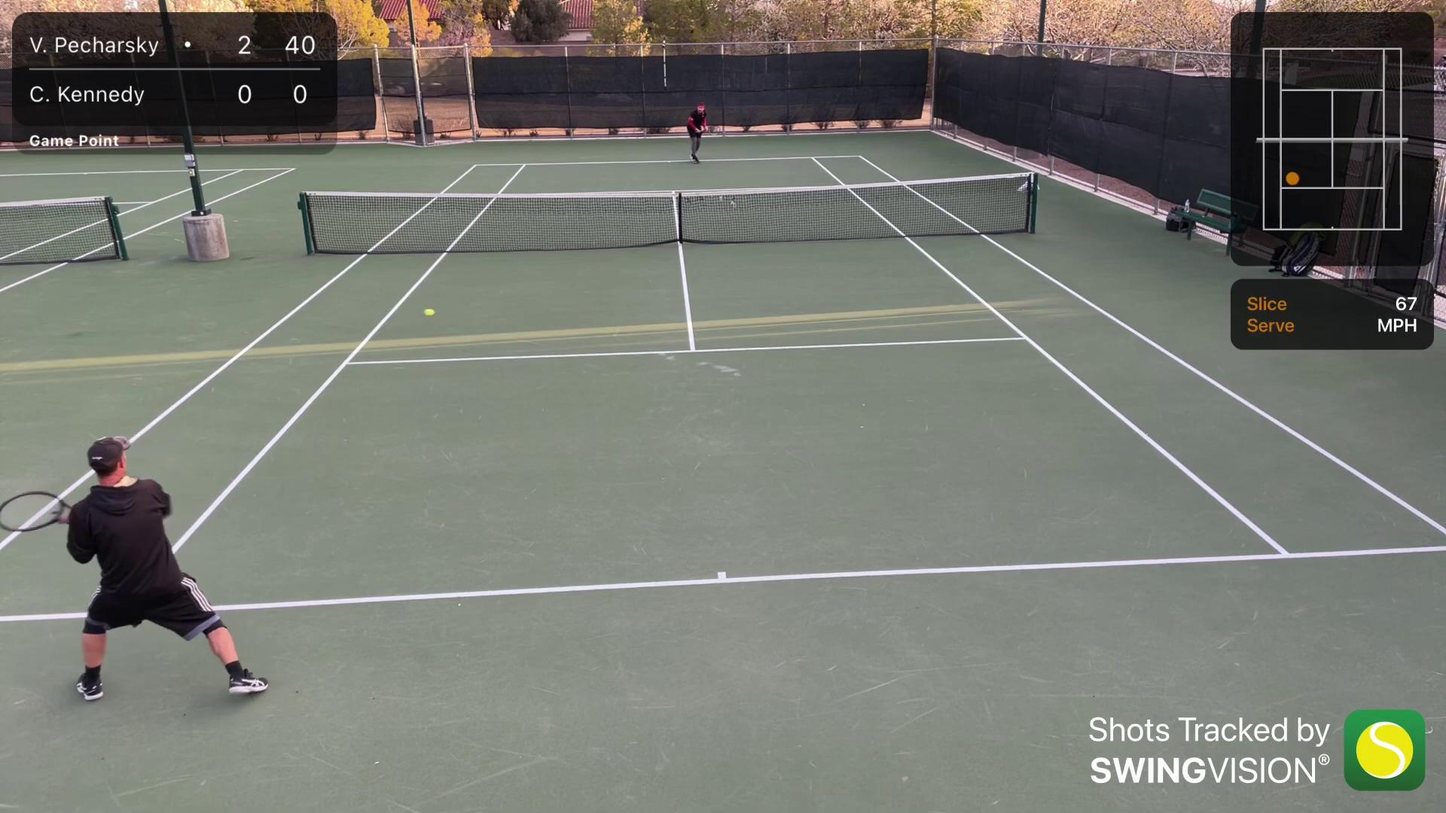ball: (422, 306, 436, 317)
